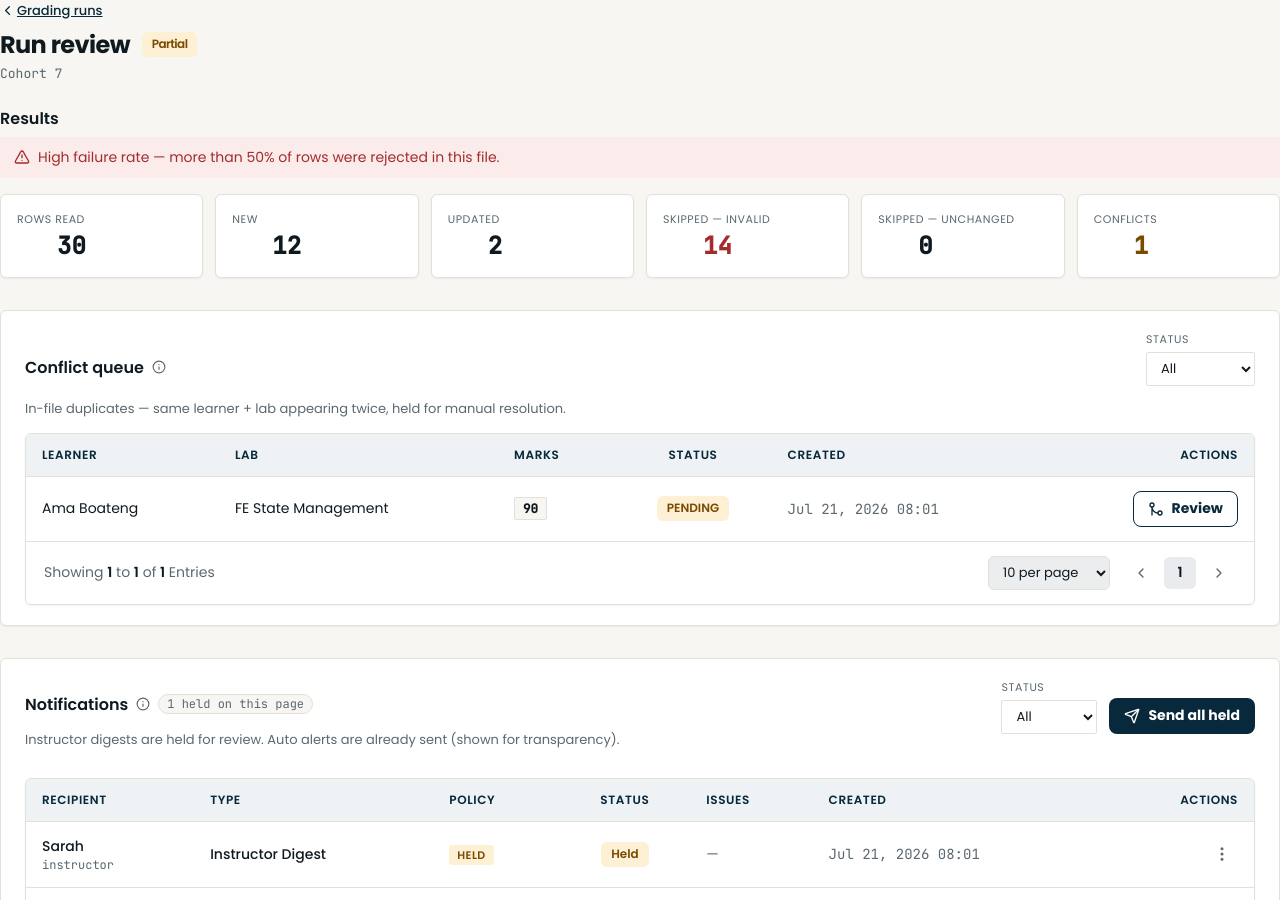
Test: RunReviewView › resolves a pending conflict via the Keep incoming button
The width and height of the screenshot is (1280, 900).
Click the button "Review" at (1185, 508), box [1133,490,1238,526]
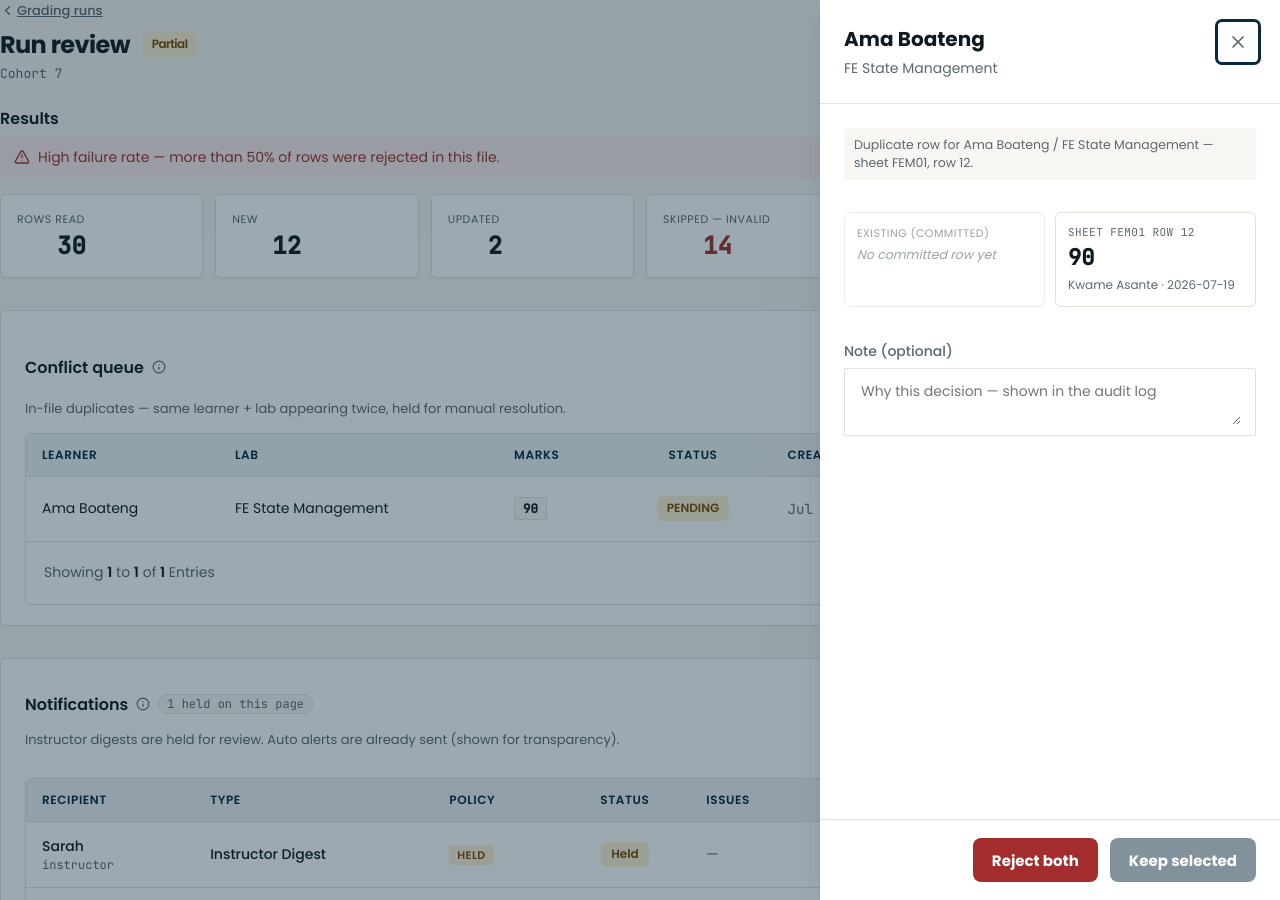
Click the radio button with class "compare-card" that starts with "sheet FEM01 row 12" at (1156, 260), box [1055,212,1256,307]
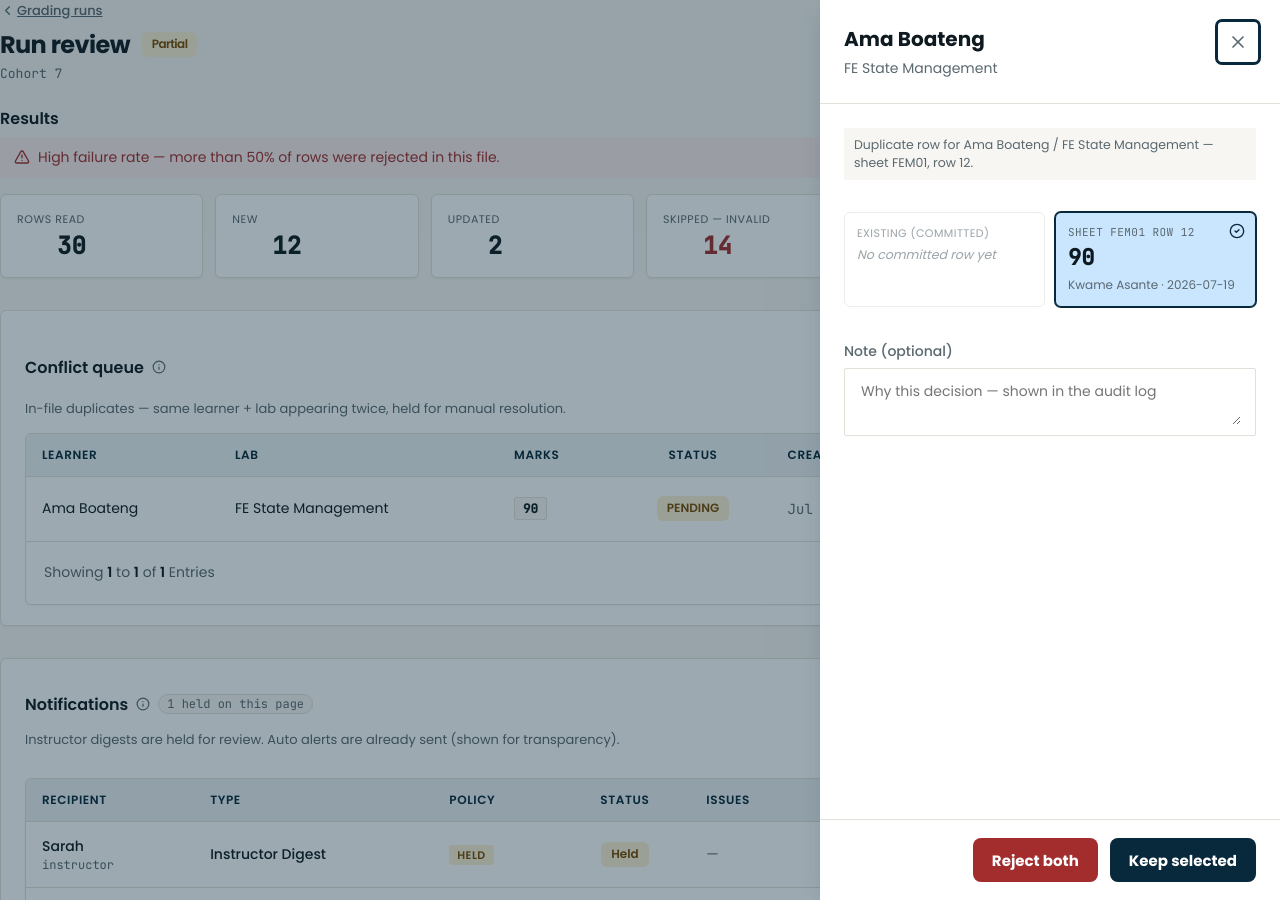
Click the button "Keep selected" at (1183, 860), box [1110,838,1256,882]
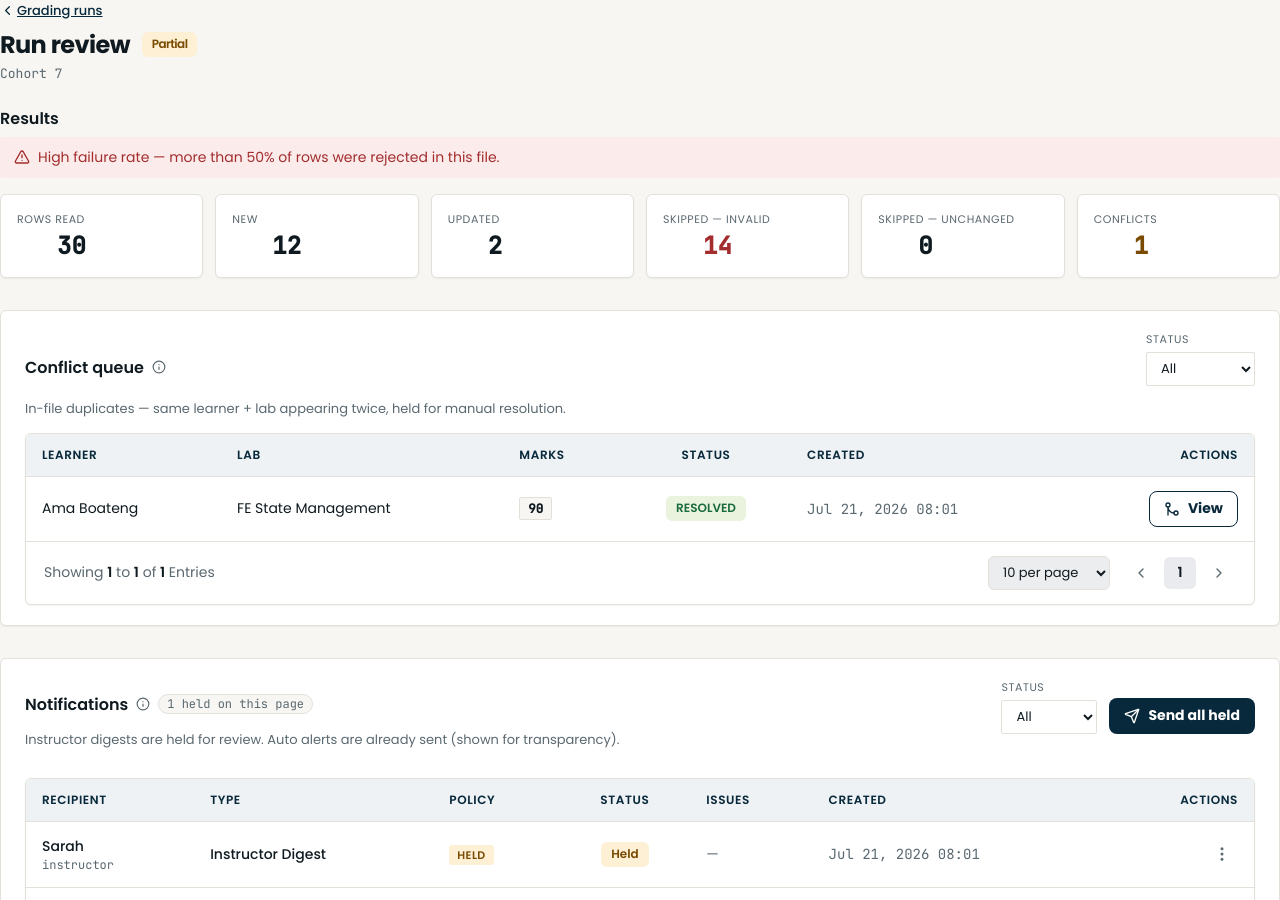
Expected: the text "RESOLVED" is shown, [666,496,746,521]
